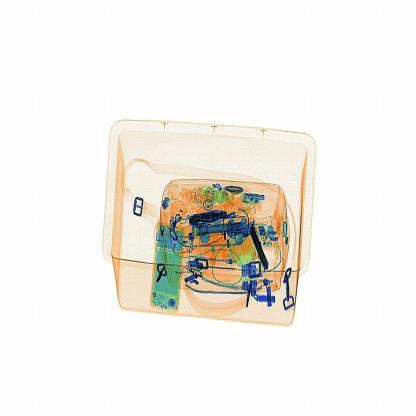knife: (242, 220, 278, 274)
